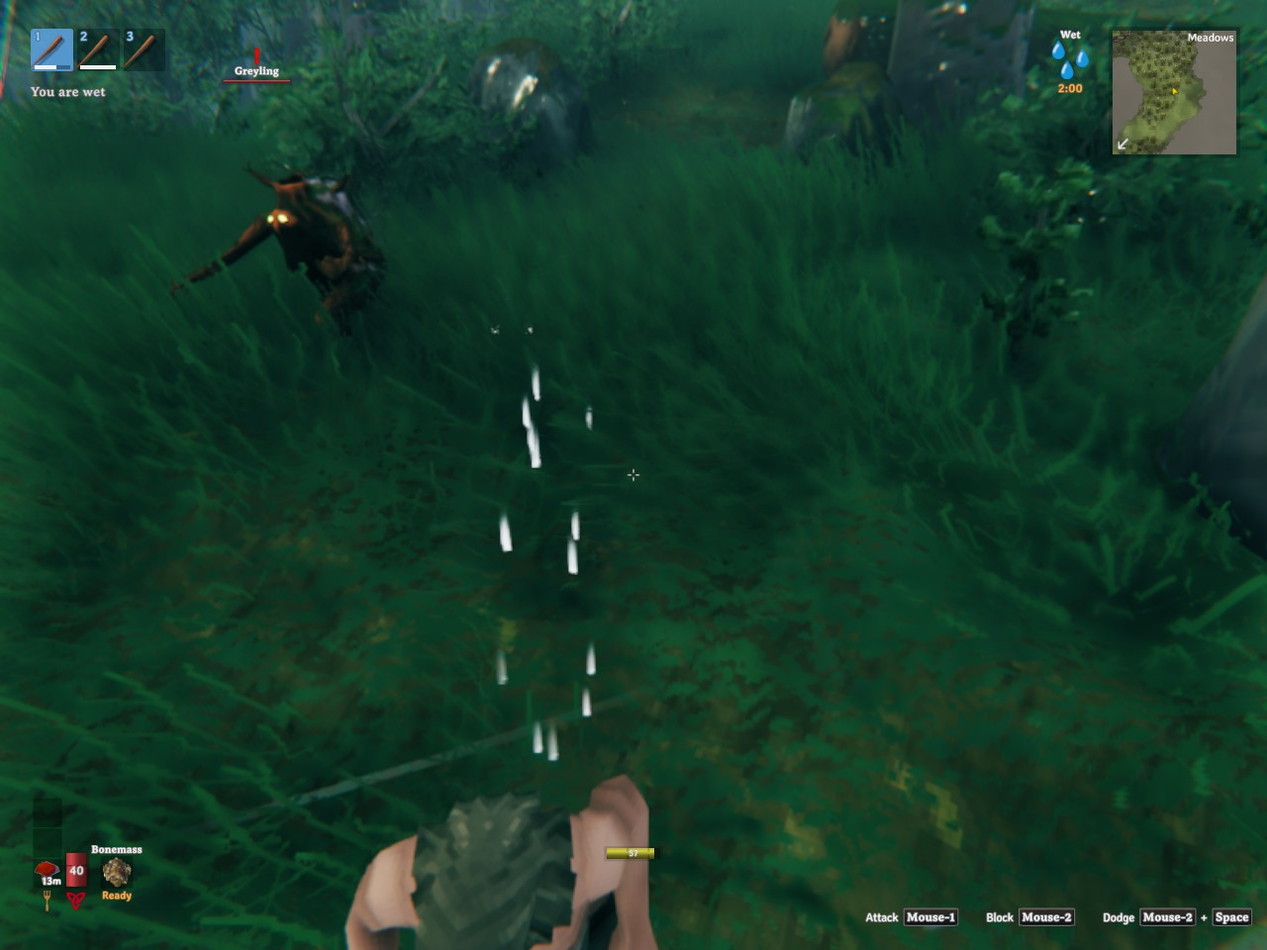Food Indicator: (36, 797, 63, 891)
Greyling: (186, 168, 385, 334)
Health Bar: (63, 820, 90, 891)
Hotbar: (24, 21, 195, 80)
Stamina Bar: (599, 841, 678, 867)
Status Indicator: (1024, 22, 1111, 100)
